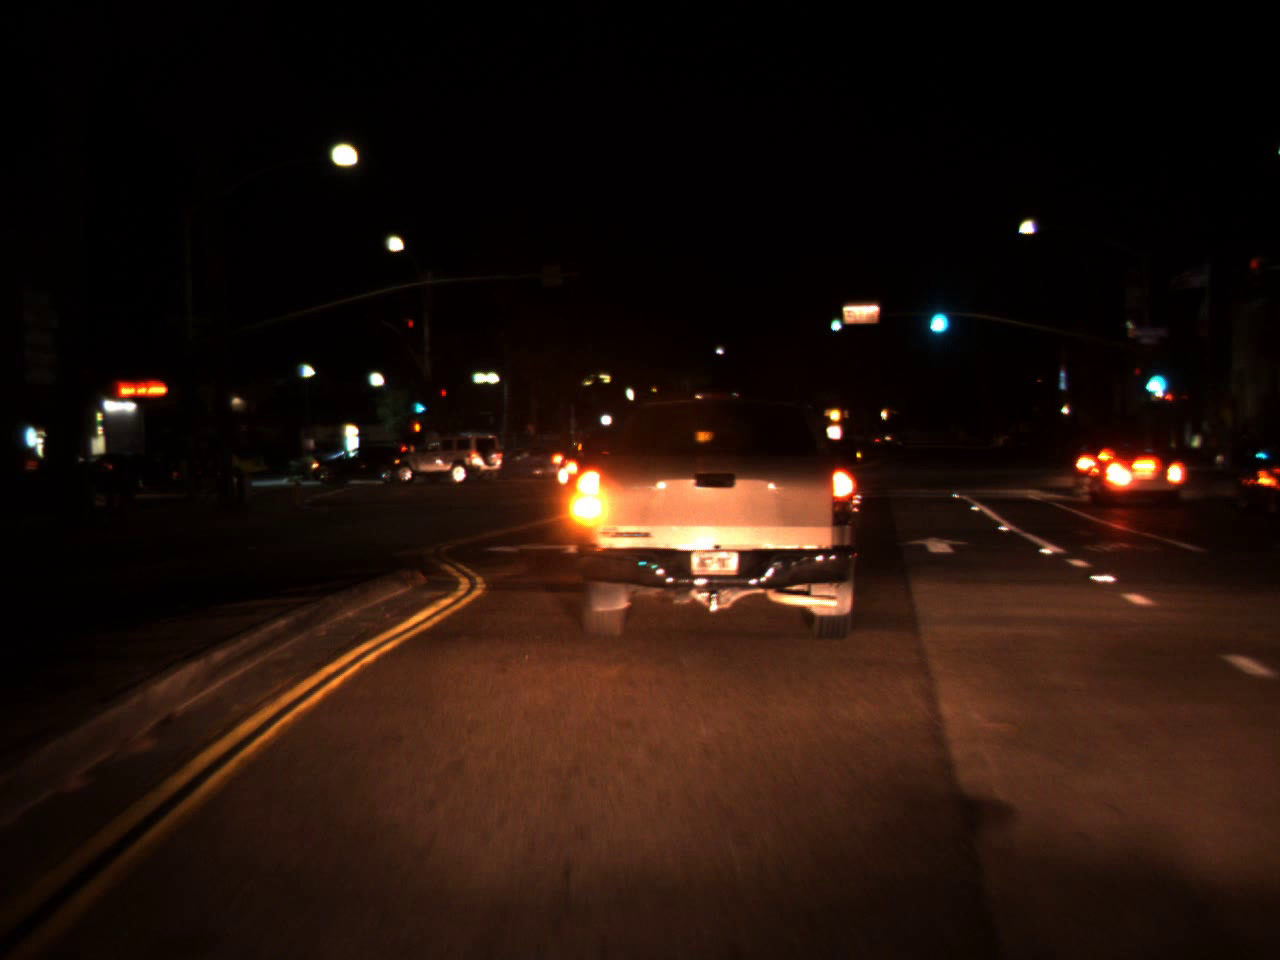go: (1137, 351, 1167, 402), (923, 287, 951, 341), (409, 383, 430, 419), (827, 307, 843, 334)
